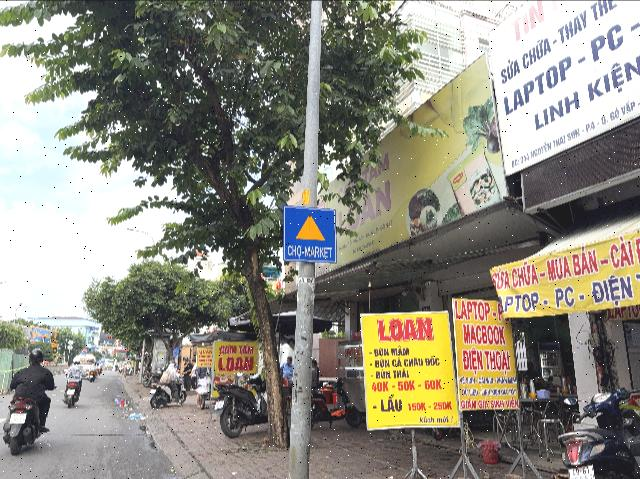khu-vuc-cho-phia-truoc: (282, 205, 338, 263)
